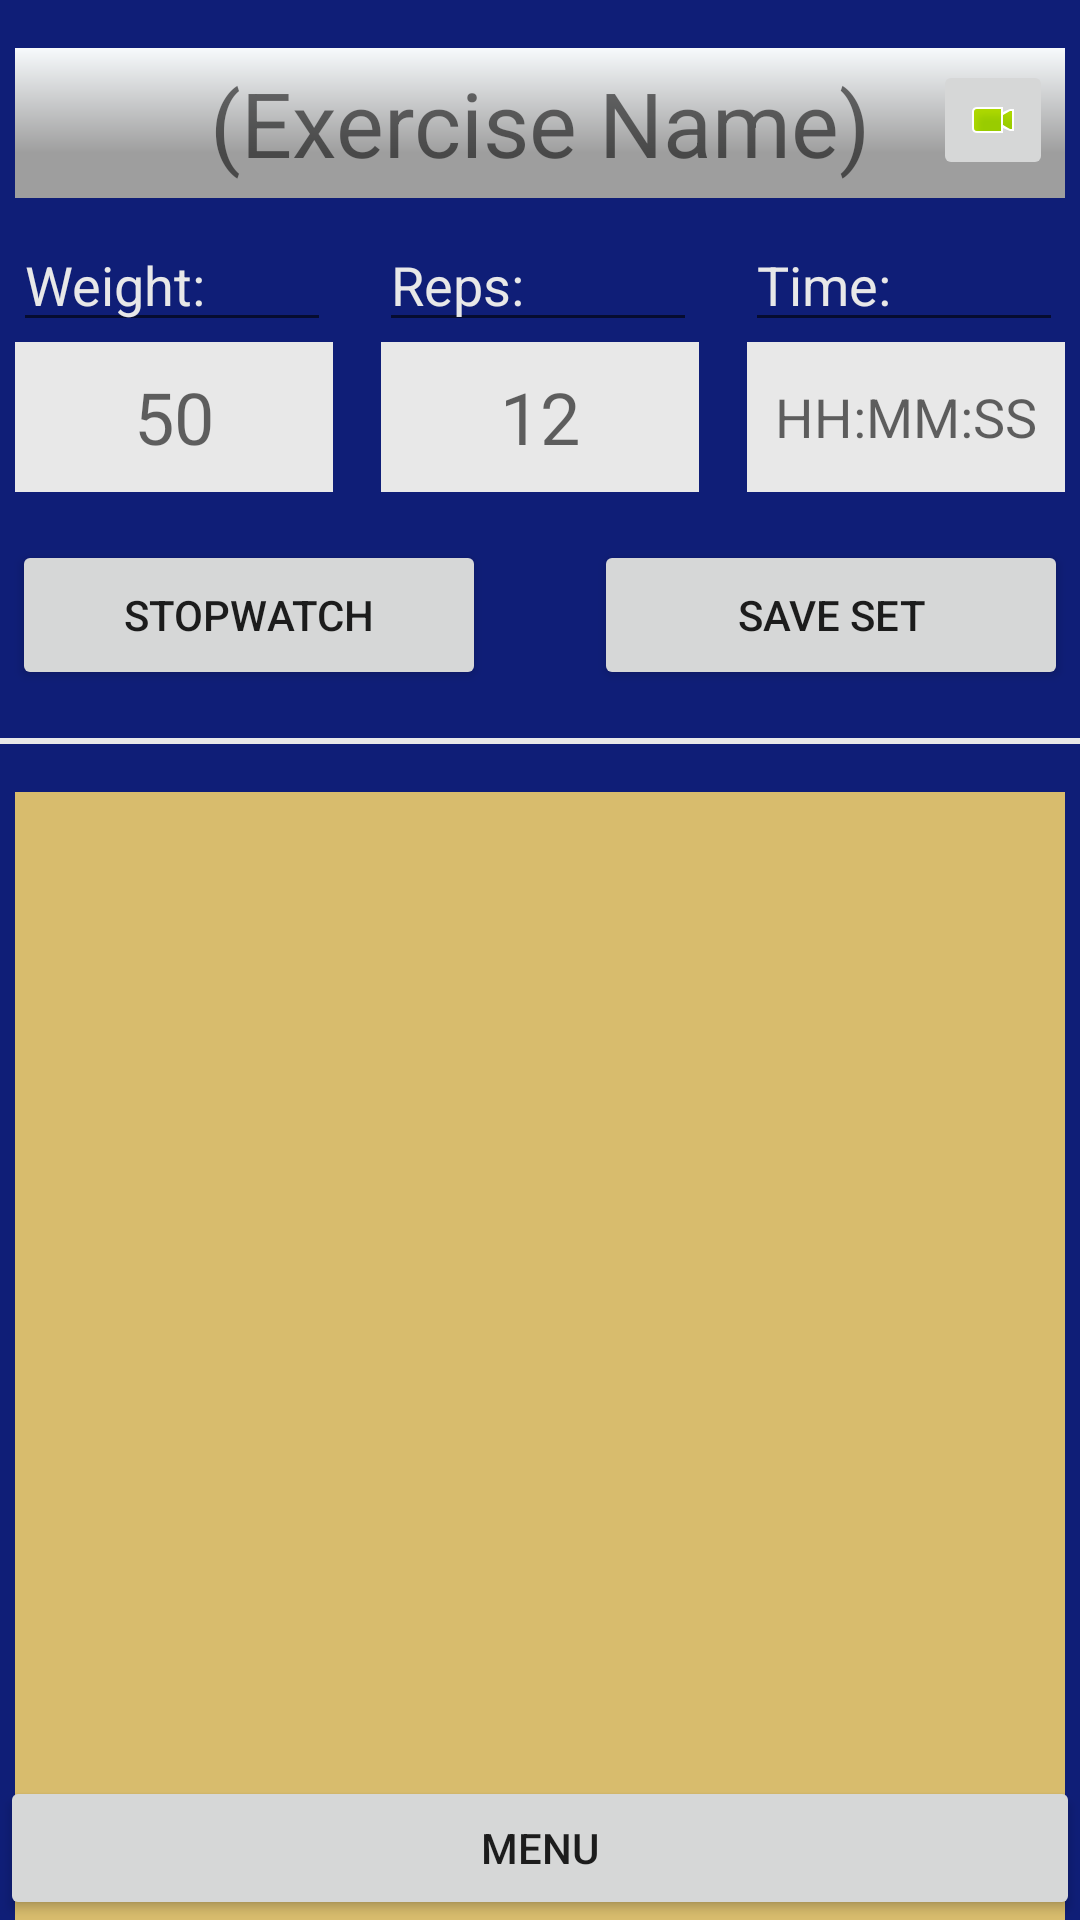

Where to tap for icons on this 1080×1920 app screen, as [x,y]:
presence video online: [993,120]
